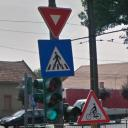preferencia: (37, 5, 73, 38)
